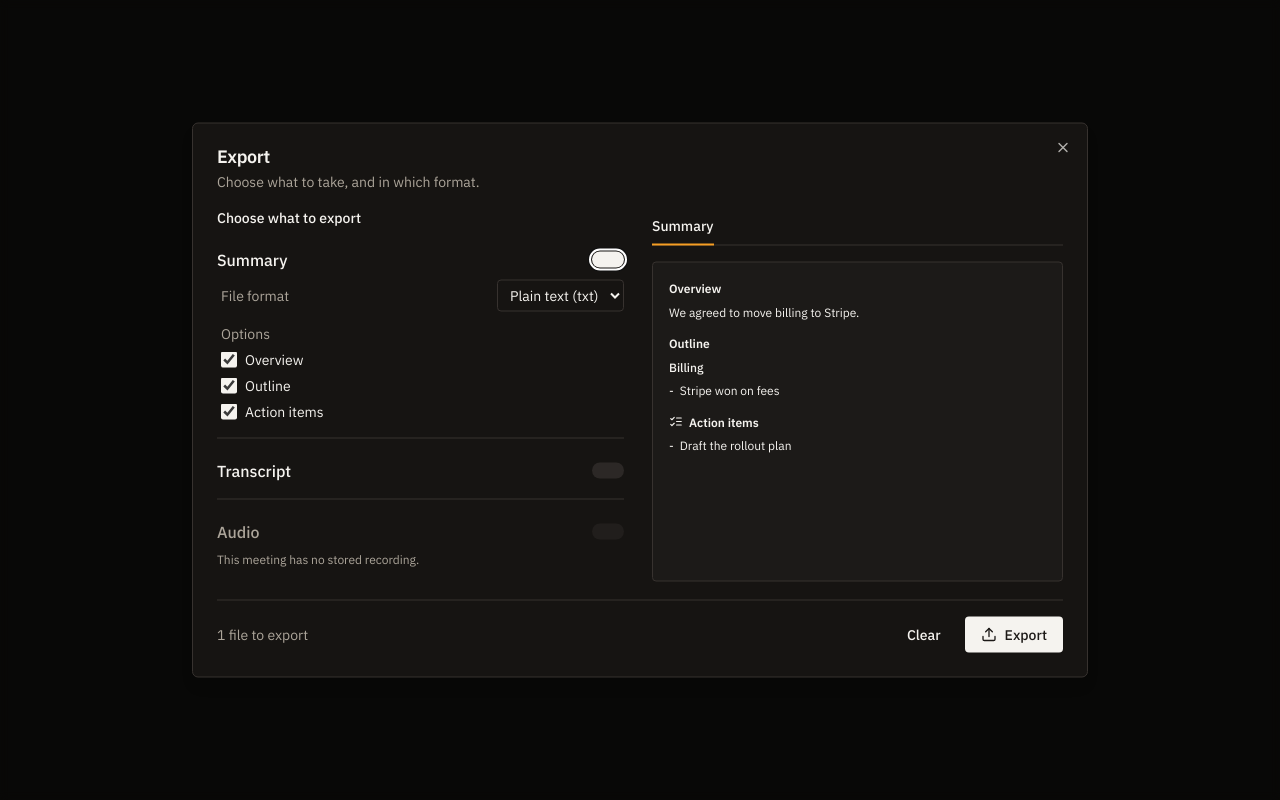
Test: ExportDialog choosing › will not export nothing
Click the button "Clear". click: coordinates (924, 634)
box: [891,616,957,652]
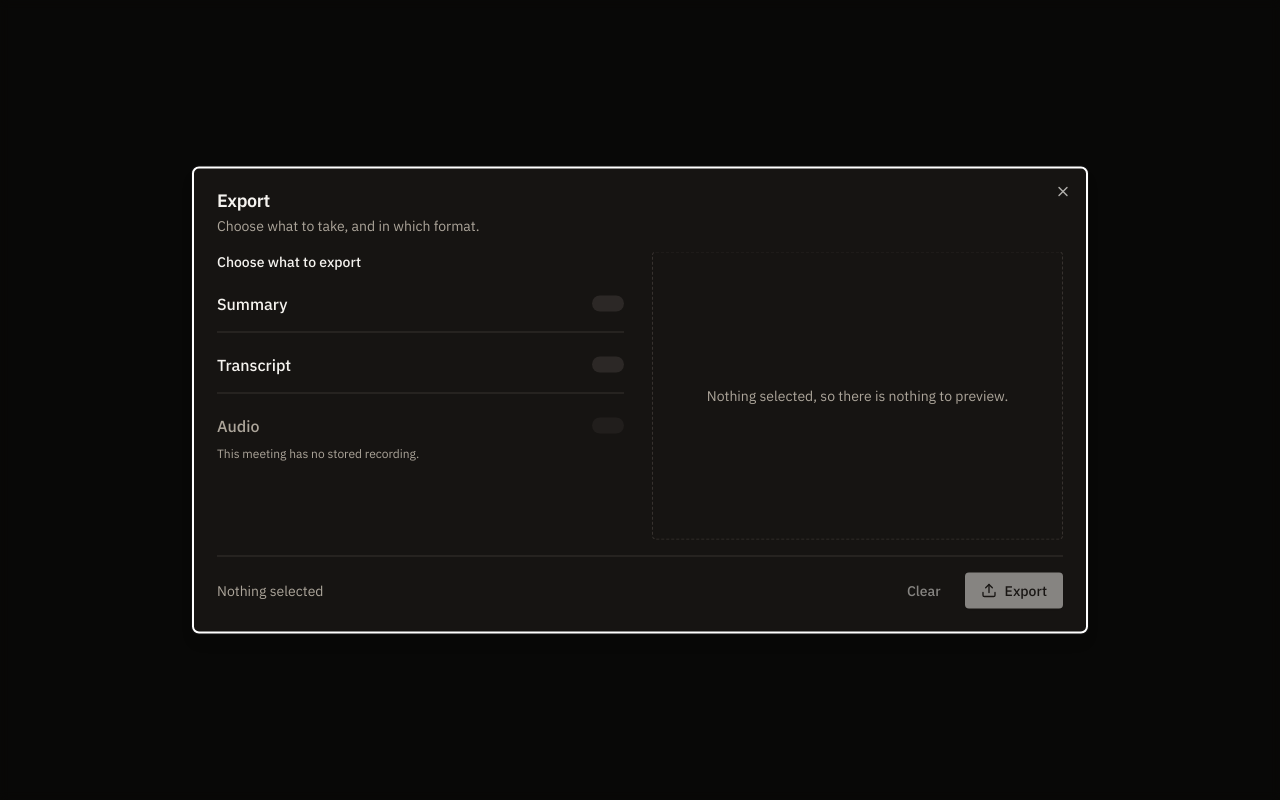
expect the text "Nothing selected" is shown: met, box [217,580,324,600]
expect the button "Export" is disabled: met, box [965,572,1063,608]
